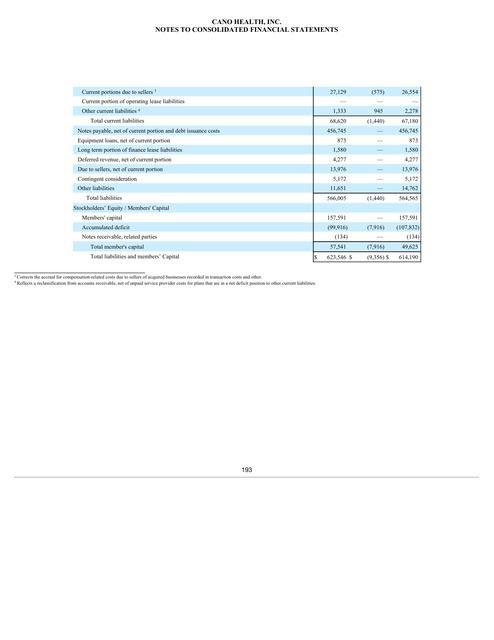box: (71, 83, 424, 265)
